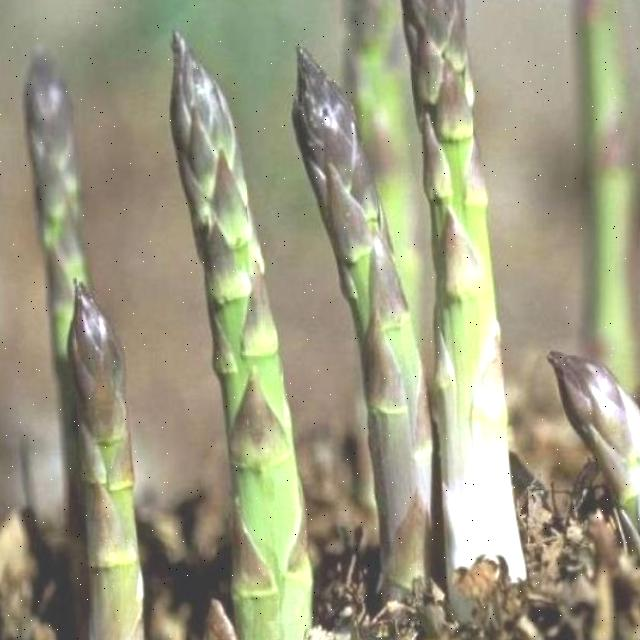aspargus: (168, 32, 311, 640), (291, 47, 436, 588), (397, 0, 530, 584), (66, 281, 145, 640)
